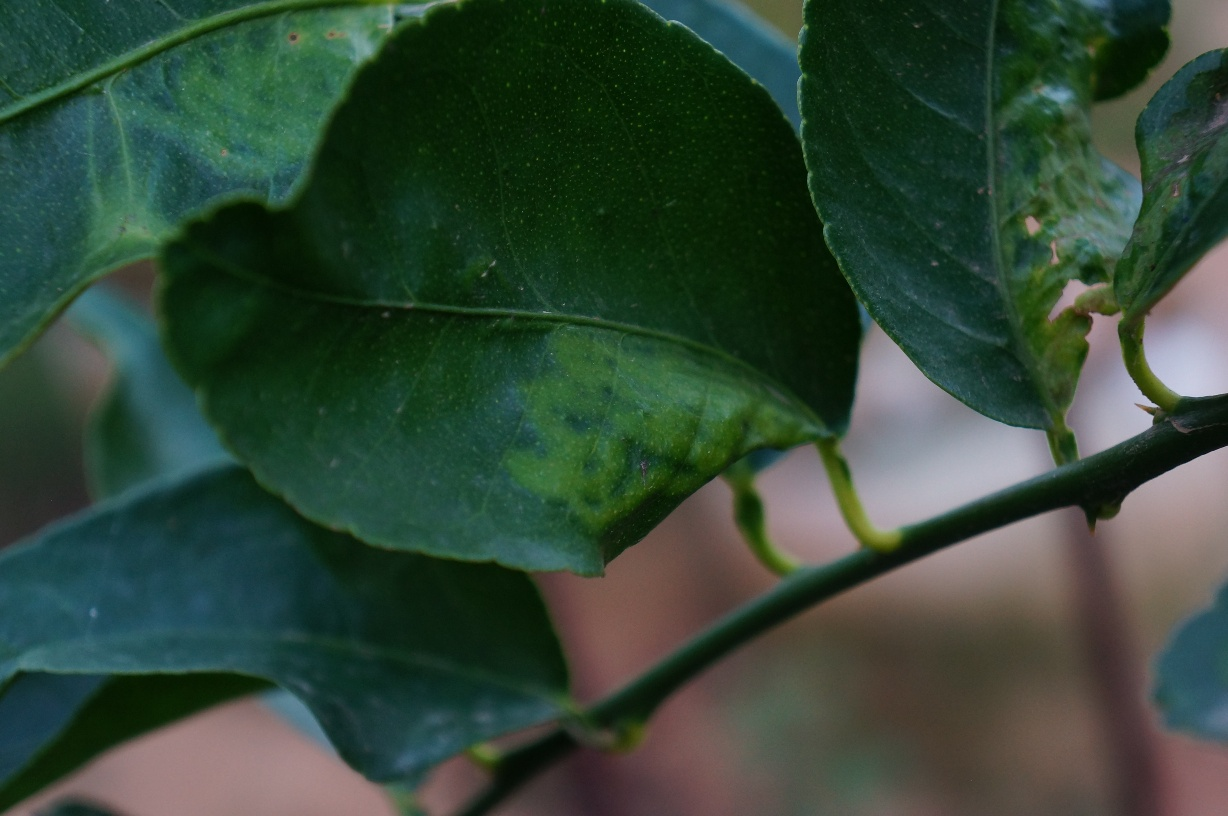damage: (1001, 145, 1146, 412)
